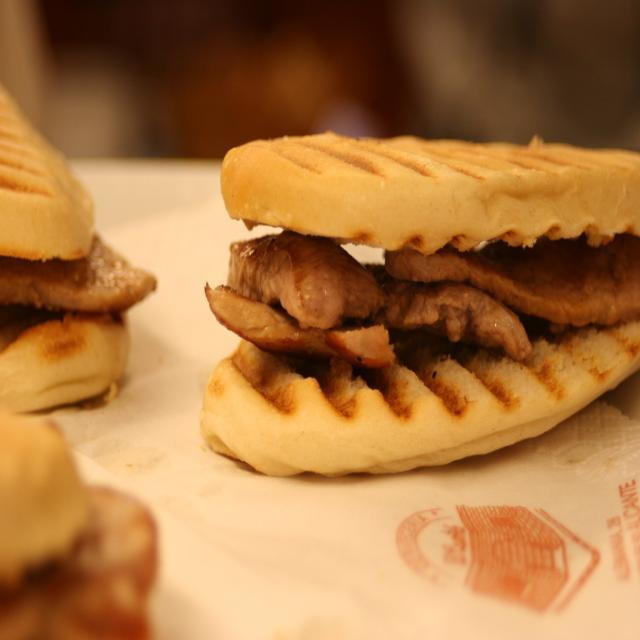Sandwich: (196, 129, 640, 481), (0, 75, 156, 413), (0, 411, 160, 639)
